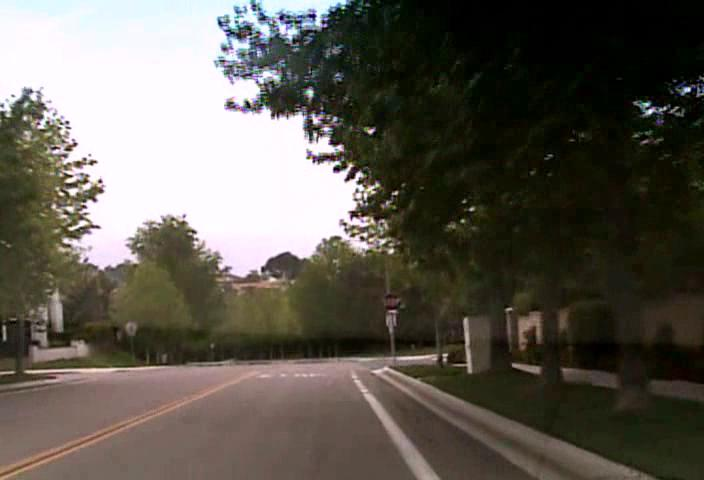stop: (381, 291, 402, 311)
